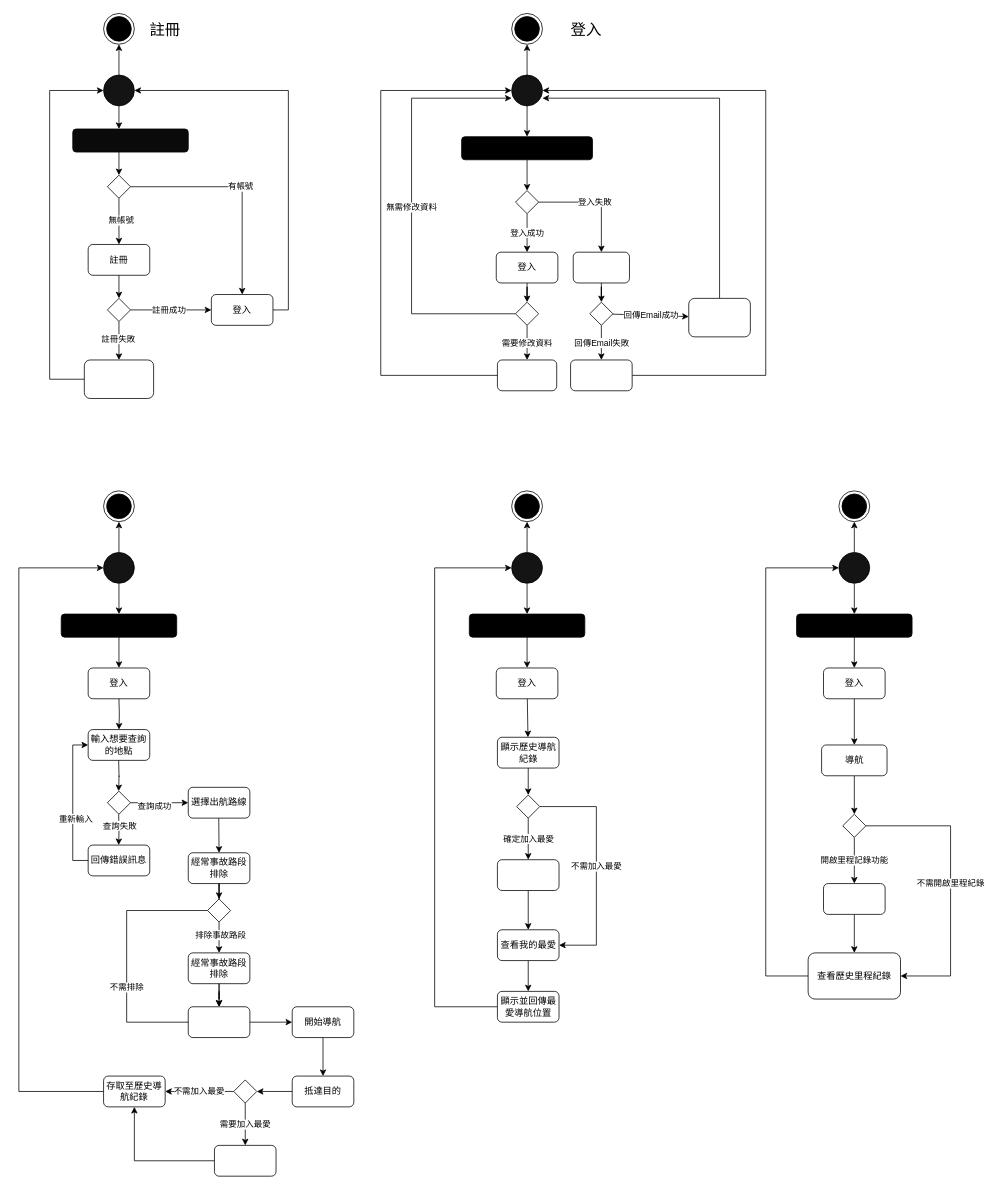
Image size: 998x1190. Some labels were removed from this diagram. Here are the shapes that lost their labels. From the top down, the box of each, then its label:
(572, 251, 629, 283): 忘記密碼
(688, 298, 750, 337): 傳送重新設定密碼訊息至Email
(84, 359, 154, 398): 錯誤訊息(註冊資料重複或是存在非法字元)
(497, 359, 557, 391): 修改資料並修改資料庫內容
(570, 359, 632, 391): 錯誤訊息並且退出登入系統
(497, 859, 559, 891): 加入到最愛位置
(823, 883, 885, 914): 紀錄里程數
(187, 1006, 250, 1038): 顯示路線
(214, 1145, 276, 1176): 存取至最愛路線
